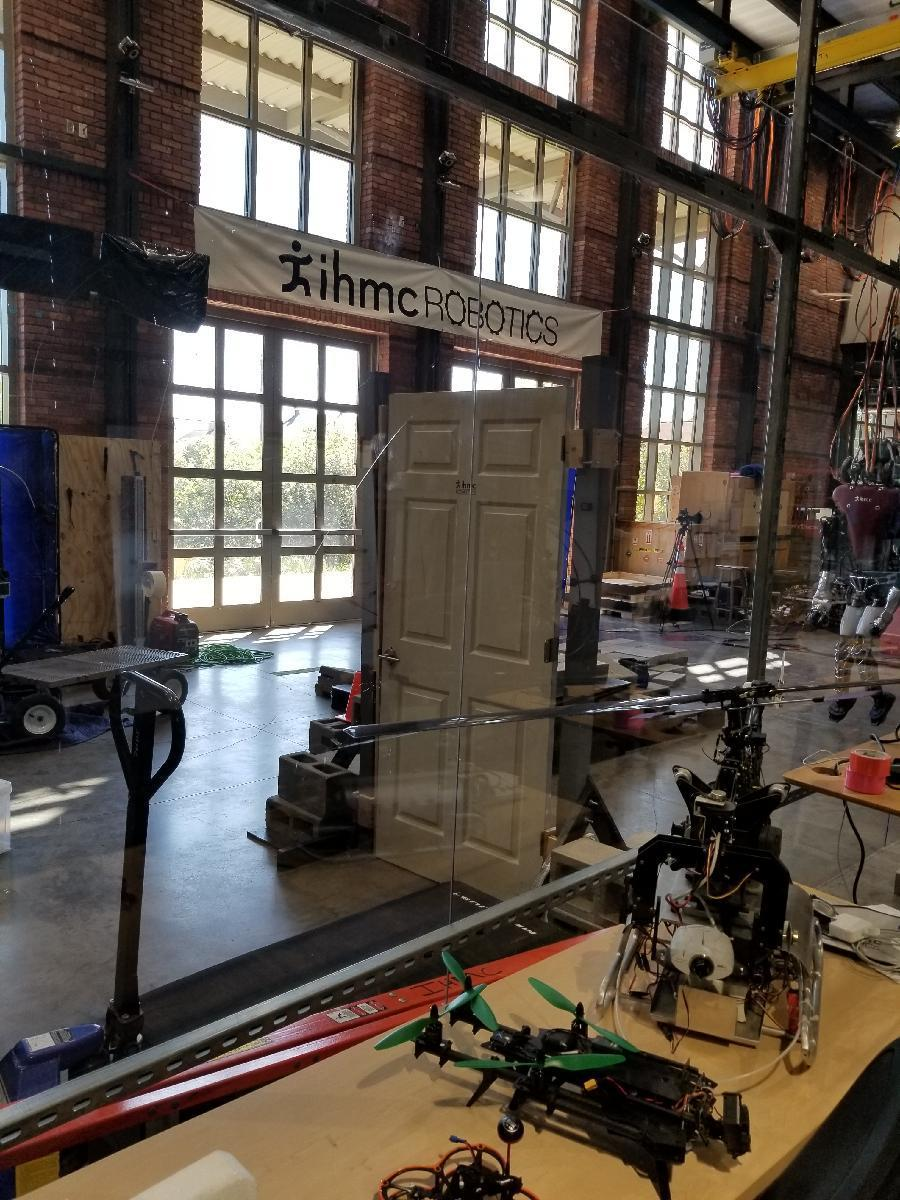door: (386, 393, 556, 903)
